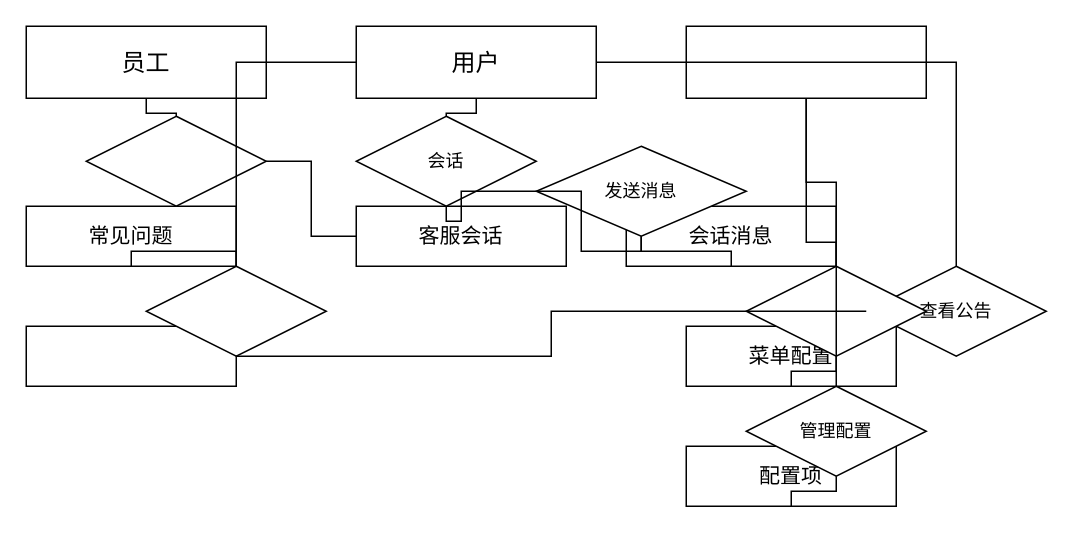
Some shapes in this 1073 by 534 pixel diagram are drawn without their labels. The centre of each missing label's shape, as x and y in pixels:
"客服处理" belongs at [175,160].
"查看/搜索" belongs at [235,310].
"管理员" belongs at [805,61].
"管理菜单" belongs at [835,310].
"系统公告" belongs at [130,355].
